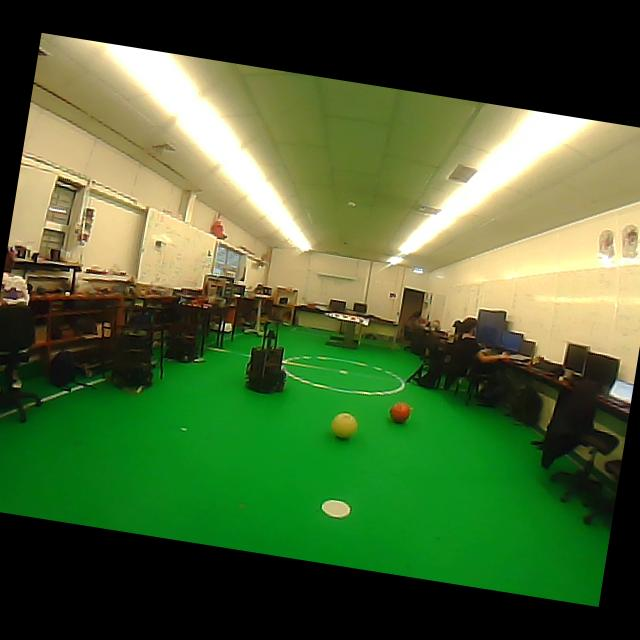ball: (331, 413, 358, 439), (331, 413, 357, 438), (390, 402, 412, 423)
robot: (246, 322, 286, 394), (112, 332, 153, 388)
